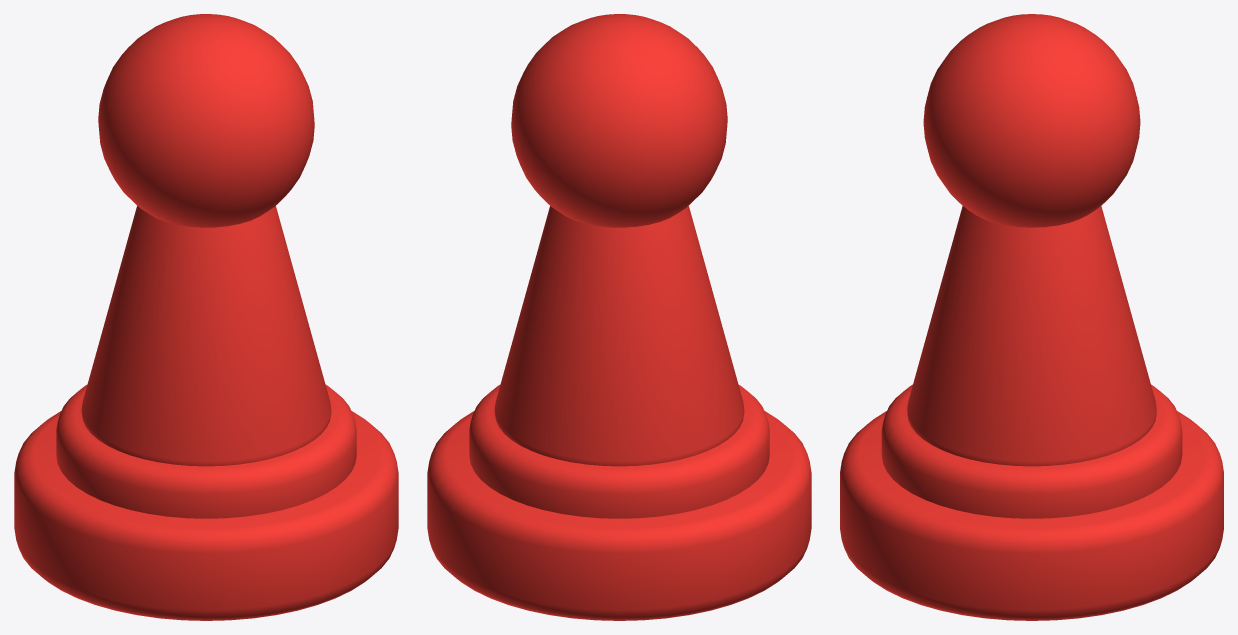
Rendered from pawn.glb.
3 renders of one model, left to right at view 1: azimuth 30°, elevation 25°; view 2: azimuth 150°, elevation 25°; view 3: azimuth 270°, elevation 25°, orthographic.
Visible parts, largest first — view 1: 棋子身体, 底座, 棋子头, 底座上沿; view 2: 棋子身体, 底座, 棋子头, 底座上沿; view 3: 棋子身体, 底座, 棋子头, 底座上沿.
Boxes of the visible parts, x1=… form: 棋子身体: x1=81, y1=205, x2=331, y2=466; 底座: x1=14, y1=411, x2=398, y2=620; 棋子头: x1=98, y1=14, x2=314, y2=227; 底座上沿: x1=56, y1=385, x2=356, y2=518; 棋子身体: x1=494, y1=205, x2=744, y2=466; 底座: x1=427, y1=411, x2=811, y2=620; 棋子头: x1=511, y1=14, x2=727, y2=227; 底座上沿: x1=469, y1=385, x2=769, y2=518; 棋子身体: x1=907, y1=206, x2=1156, y2=466; 底座: x1=840, y1=411, x2=1223, y2=620; 棋子头: x1=923, y1=14, x2=1140, y2=227; 底座上沿: x1=881, y1=384, x2=1182, y2=518.
Size of the model in its own units: 0.92 by 1.38 by 0.92.
